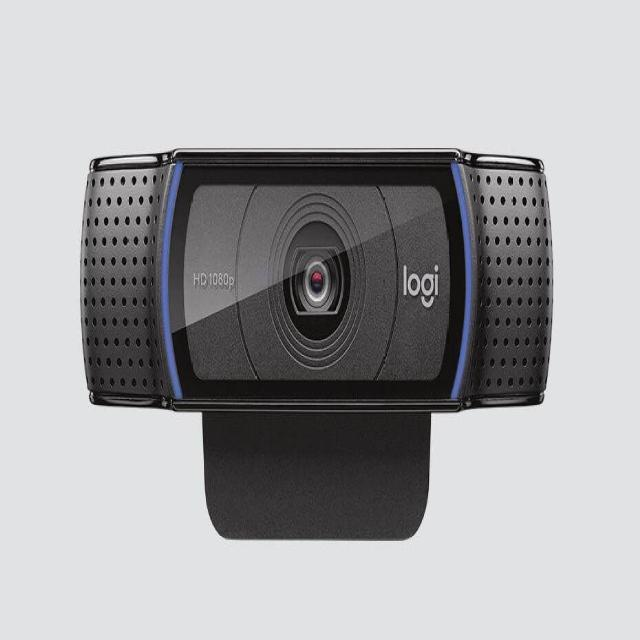hidden camera: (264, 200, 373, 375)
